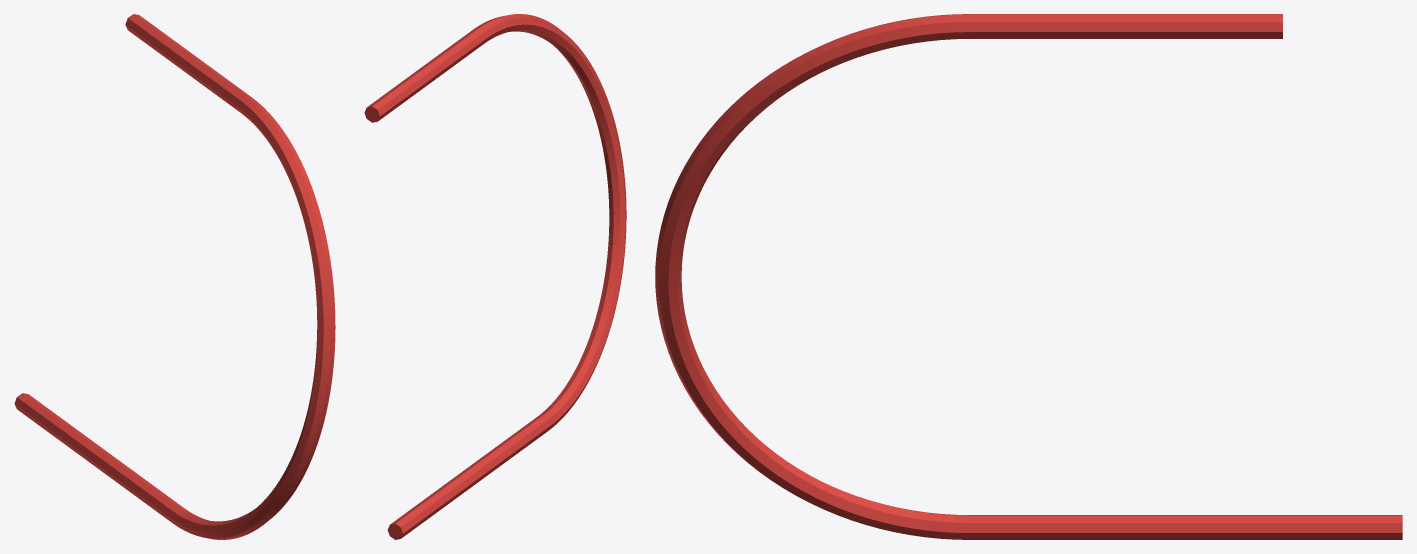
File: J2_cavity_3_red_Alpha3057_16AWG.glb
The picture shows the model from 3 angles, left to right: view 1: azimuth 30°, elevation 25°; view 2: azimuth 150°, elevation 25°; view 3: azimuth 270°, elevation 25°; orthographic projection. The views are drawn at different scales.
Visible parts, largest first — view 1: J2 cavity 3 red Alpha3057_16AWG; view 2: J2 cavity 3 red Alpha3057_16AWG; view 3: J2 cavity 3 red Alpha3057_16AWG.
Boxes of the visible parts, x1,y1,x2,y2 form: J2 cavity 3 red Alpha3057_16AWG: (14, 14, 335, 539); J2 cavity 3 red Alpha3057_16AWG: (364, 14, 626, 539); J2 cavity 3 red Alpha3057_16AWG: (655, 14, 1402, 539).
Size of the model in its own units: 12.17 by 56.79 by 67.39.
